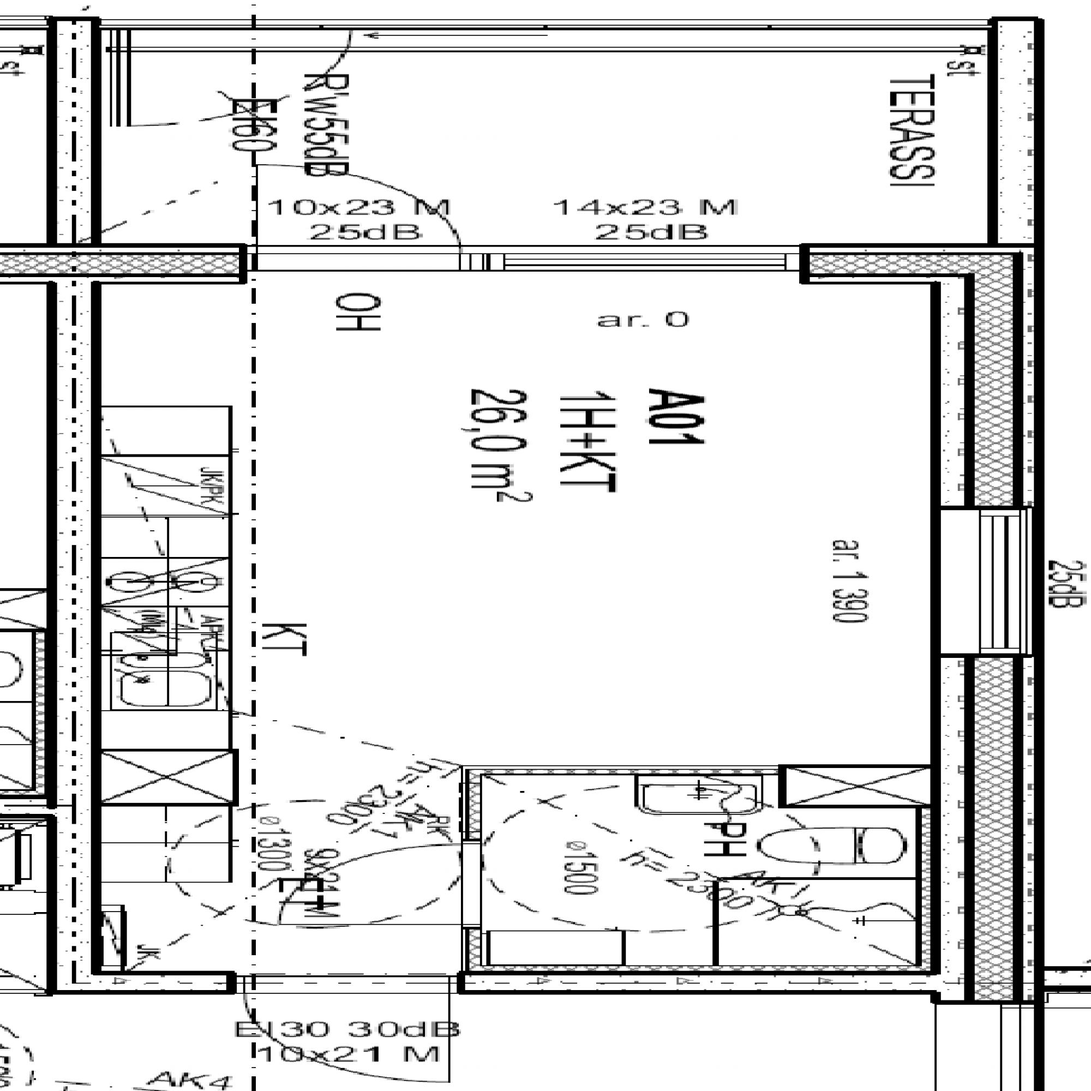wall: (931, 283, 1046, 765), (49, 243, 1047, 283), (49, 243, 99, 995), (923, 766, 1046, 995), (463, 964, 1047, 995), (989, 17, 1046, 283), (49, 17, 1047, 29), (49, 17, 99, 243), (781, 766, 1046, 808), (49, 972, 463, 995), (463, 766, 482, 995), (464, 766, 781, 777)
